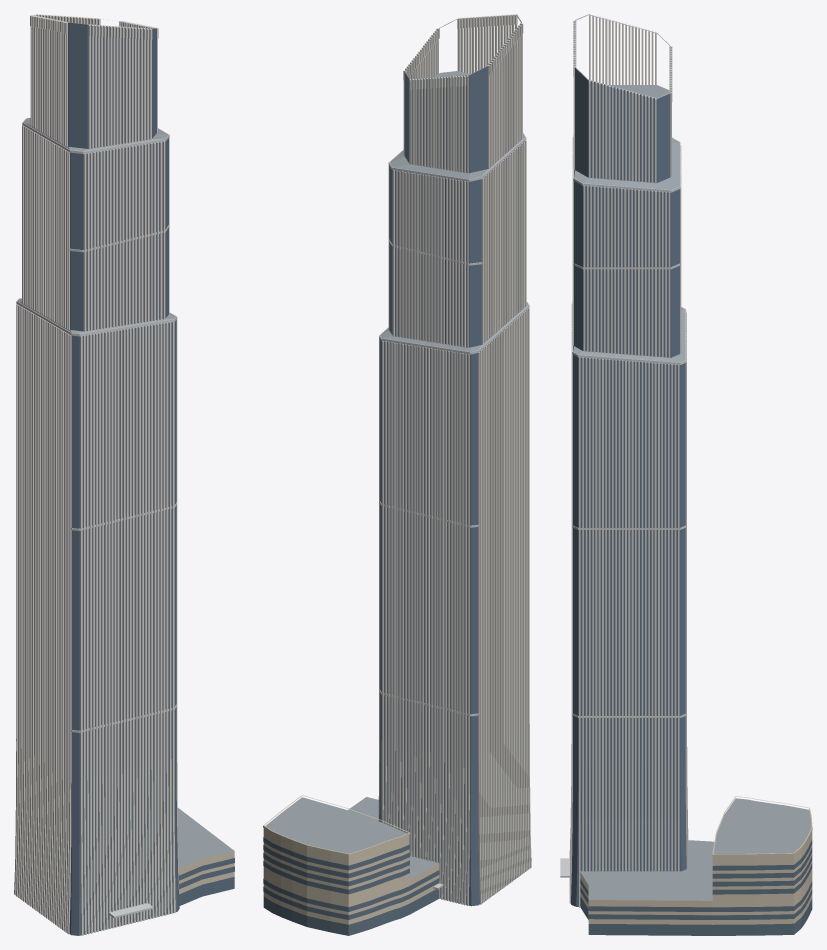
The model's file is guangzhou-ctf-finance-centre.detail.glb.
The picture shows the model from 3 angles, left to right: view 1: azimuth 30°, elevation 25°; view 2: azimuth 150°, elevation 25°; view 3: azimuth 270°, elevation 25°; orthographic projection. The views are drawn at different scales.
Visible parts, largest first — view 1: Guangzhou CTF Finance Centre; view 2: Guangzhou CTF Finance Centre; view 3: Guangzhou CTF Finance Centre.
Boxes of the visible parts, x1=… form: Guangzhou CTF Finance Centre: x1=14, y1=14, x2=234, y2=935; Guangzhou CTF Finance Centre: x1=263, y1=14, x2=531, y2=935; Guangzhou CTF Finance Centre: x1=560, y1=14, x2=812, y2=935.
Bounding box in the file's own units: 107 × 530 × 143.
